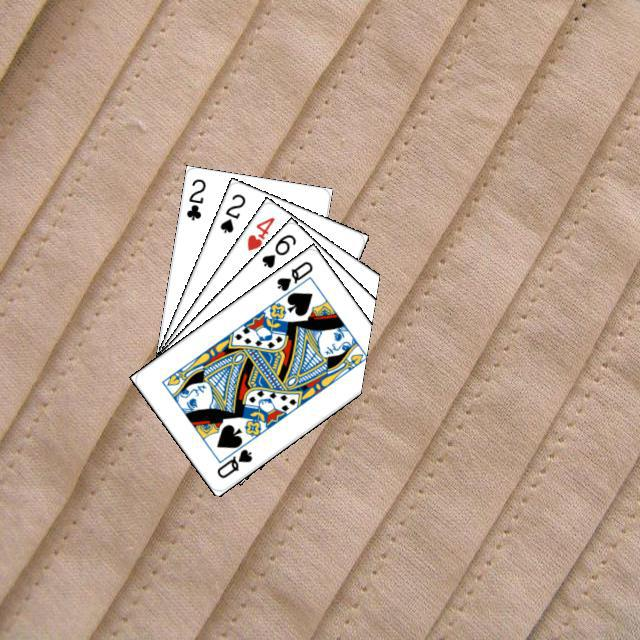2c: (181, 174, 207, 222)
2s: (215, 189, 247, 235)
4h: (242, 212, 277, 252)
6s: (256, 229, 298, 270)
Qs: (271, 256, 315, 293), (212, 444, 254, 480)
